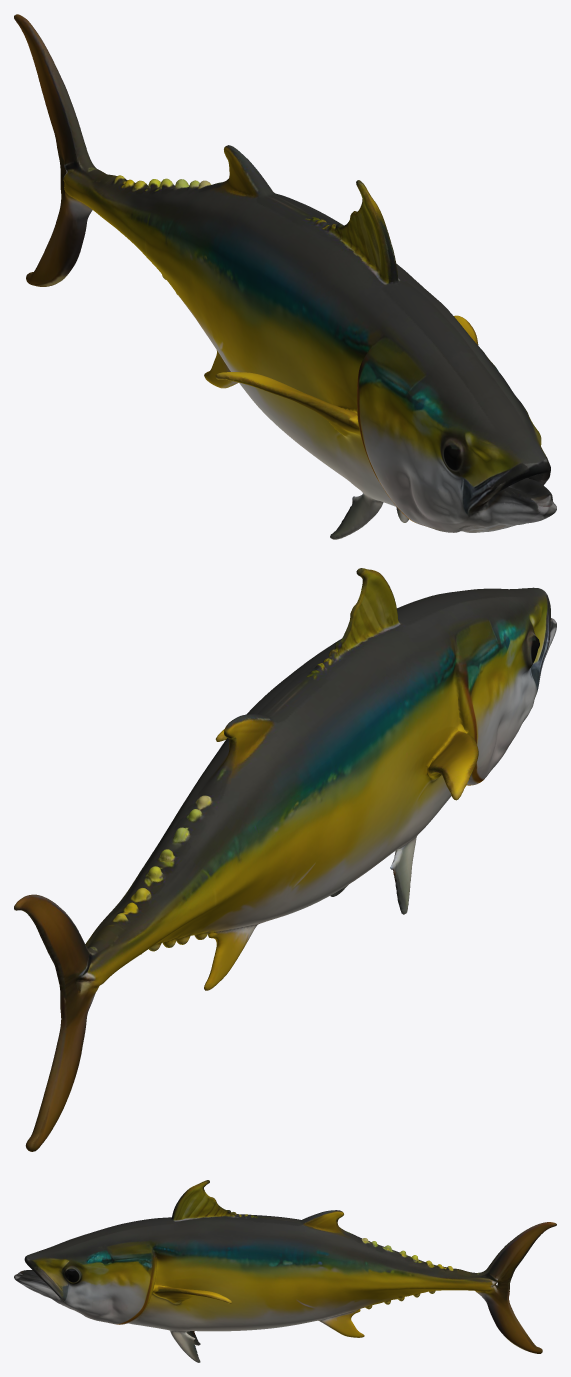
Rendered from fish_yellowfin_tuna.glb.
3 views of the same model, one above another, from view 1: azimuth 30°, elevation 25°; view 2: azimuth 150°, elevation 25°; view 3: azimuth 270°, elevation 25° (orthographic). The views are drawn at different scales.
Visible parts, largest first — view 1: tripo_node_968c22c3-1f39-4552-a9dc-85cc11571961; view 2: tripo_node_968c22c3-1f39-4552-a9dc-85cc11571961; view 3: tripo_node_968c22c3-1f39-4552-a9dc-85cc11571961.
Boxes of the visible parts, bbox=[...] form: tripo_node_968c22c3-1f39-4552-a9dc-85cc11571961: bbox=[14, 14, 556, 539]; tripo_node_968c22c3-1f39-4552-a9dc-85cc11571961: bbox=[14, 568, 556, 1151]; tripo_node_968c22c3-1f39-4552-a9dc-85cc11571961: bbox=[14, 1180, 556, 1362].
Size of the model in its own units: 0.262 by 0.3534 by 1.
1 material, 1 textured.
